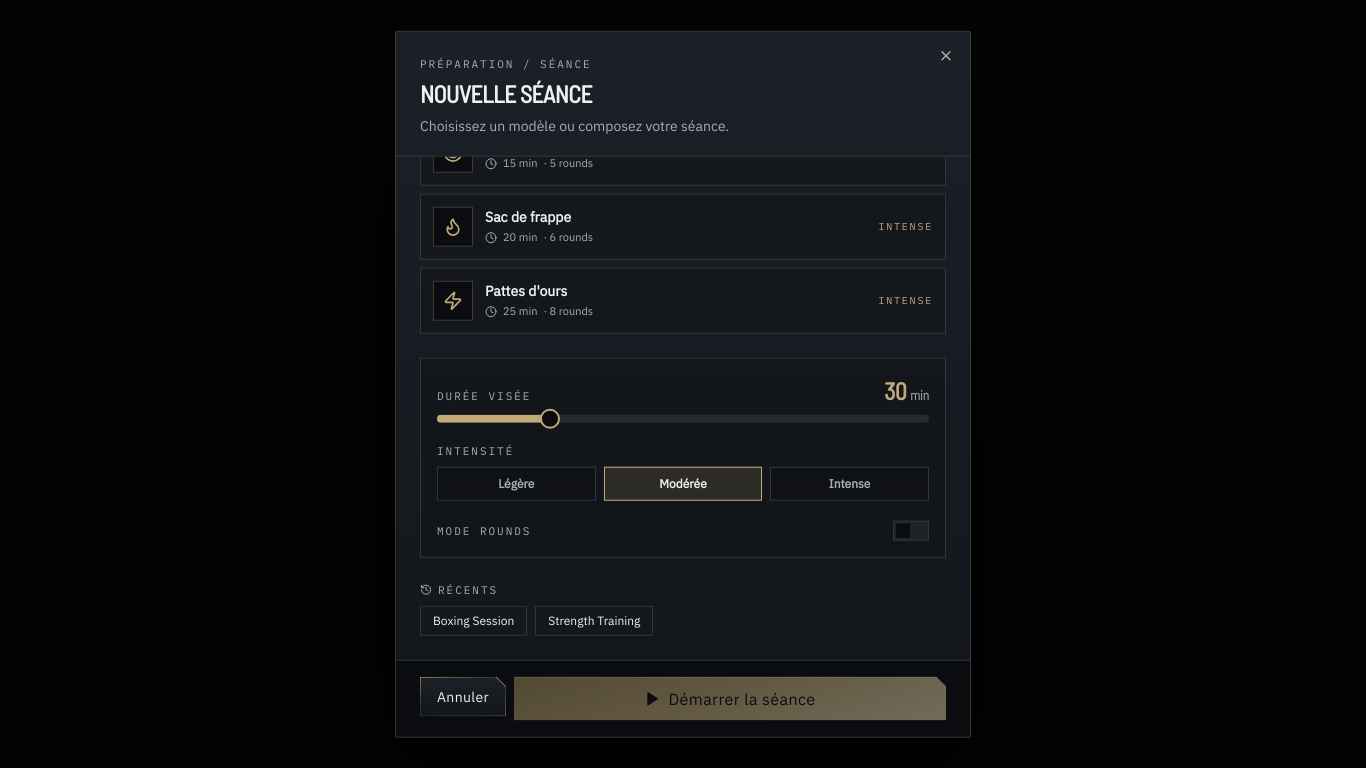
Test case: StartWorkoutDialogV2 - Recent Workouts › should allow quick restart of recent workout
This screenshot has width=1366, height=768.
(page scrolled)
Click the button "Boxing Session" at [474, 620], box [420,605,527,635]
(page scrolled)
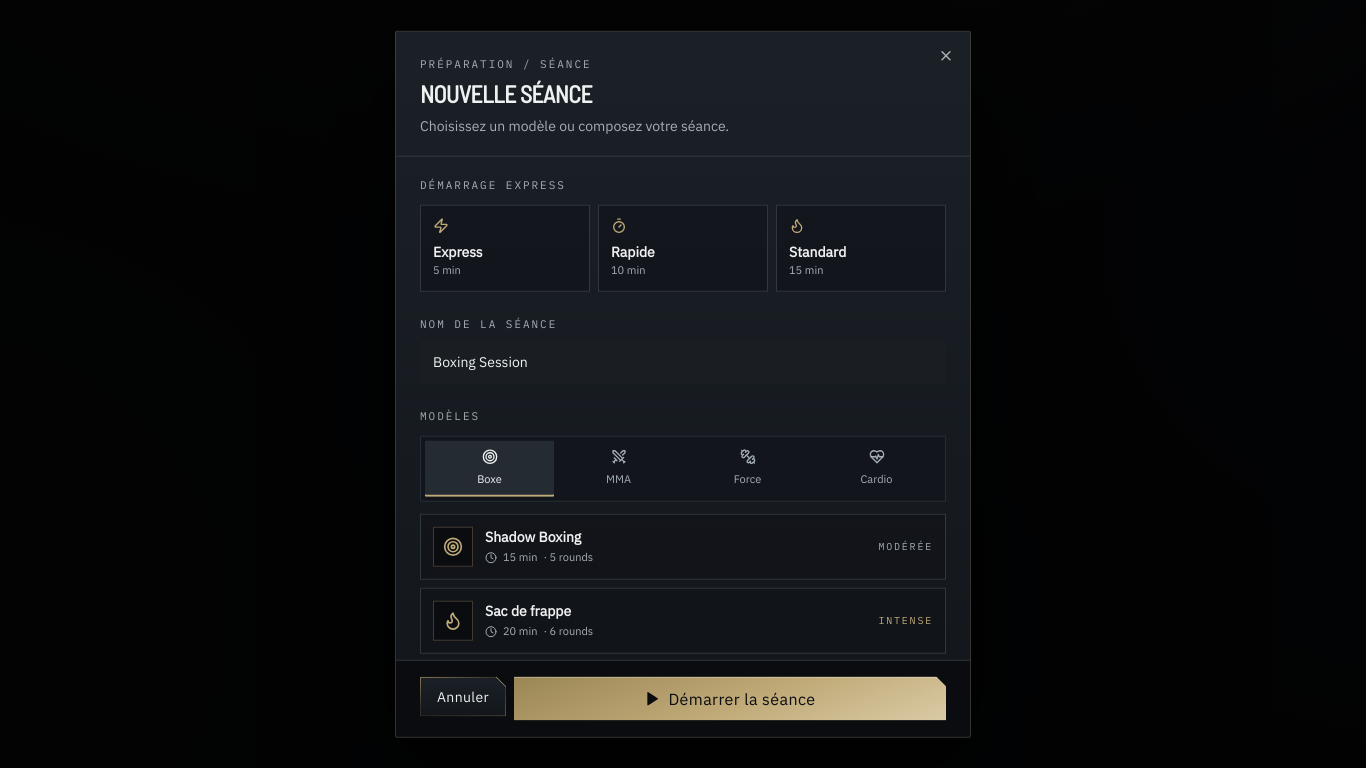
Result: the field labelled "Nom de la séance" holds "Boxing Session" at [420,339,946,383]
